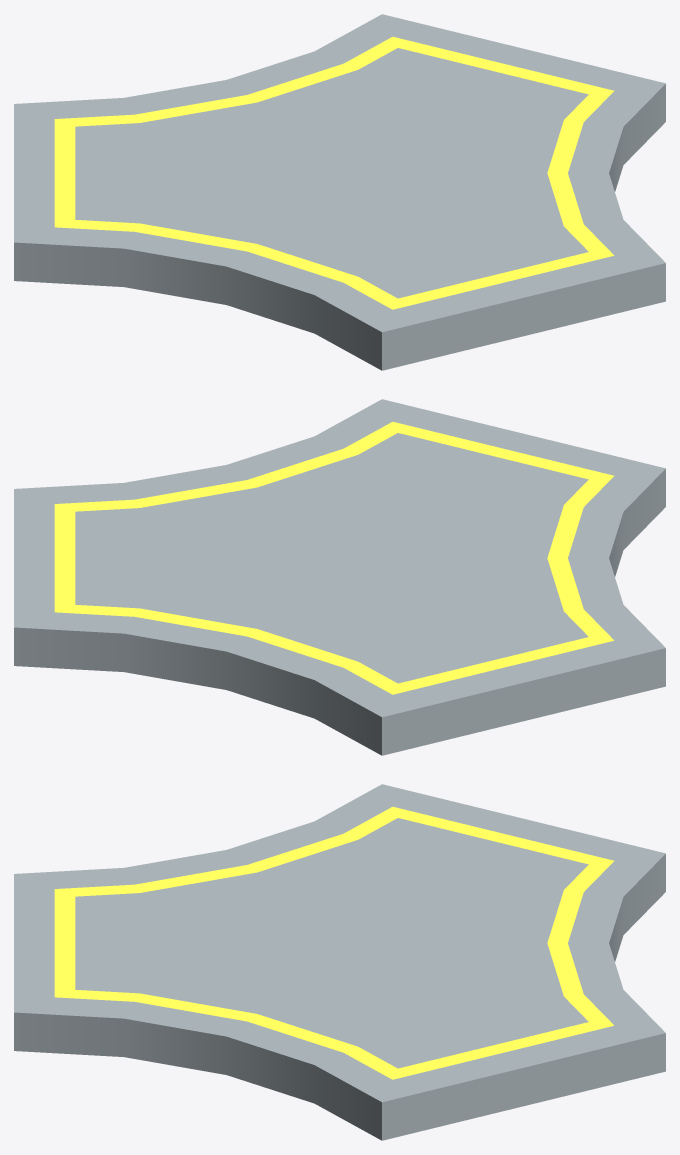
File: SM_PlatformCurvedThreeway_v0.fbx
3 renders of one model, top to bottom at view 1: azimuth 30°, elevation 25°; view 2: azimuth 150°, elevation 25°; view 3: azimuth 270°, elevation 25°, orthographic.
Visible parts, largest first — view 1: SM_PlatformCurvedThreeway_v0; view 2: SM_PlatformCurvedThreeway_v0; view 3: SM_PlatformCurvedThreeway_v0.
Boxes of the visible parts, x1=… form: SM_PlatformCurvedThreeway_v0: x1=14, y1=14, x2=665, y2=370; SM_PlatformCurvedThreeway_v0: x1=14, y1=399, x2=665, y2=755; SM_PlatformCurvedThreeway_v0: x1=14, y1=784, x2=665, y2=1140.
Size of the model in its own units: 2.21 by 0.125 by 1.92.
